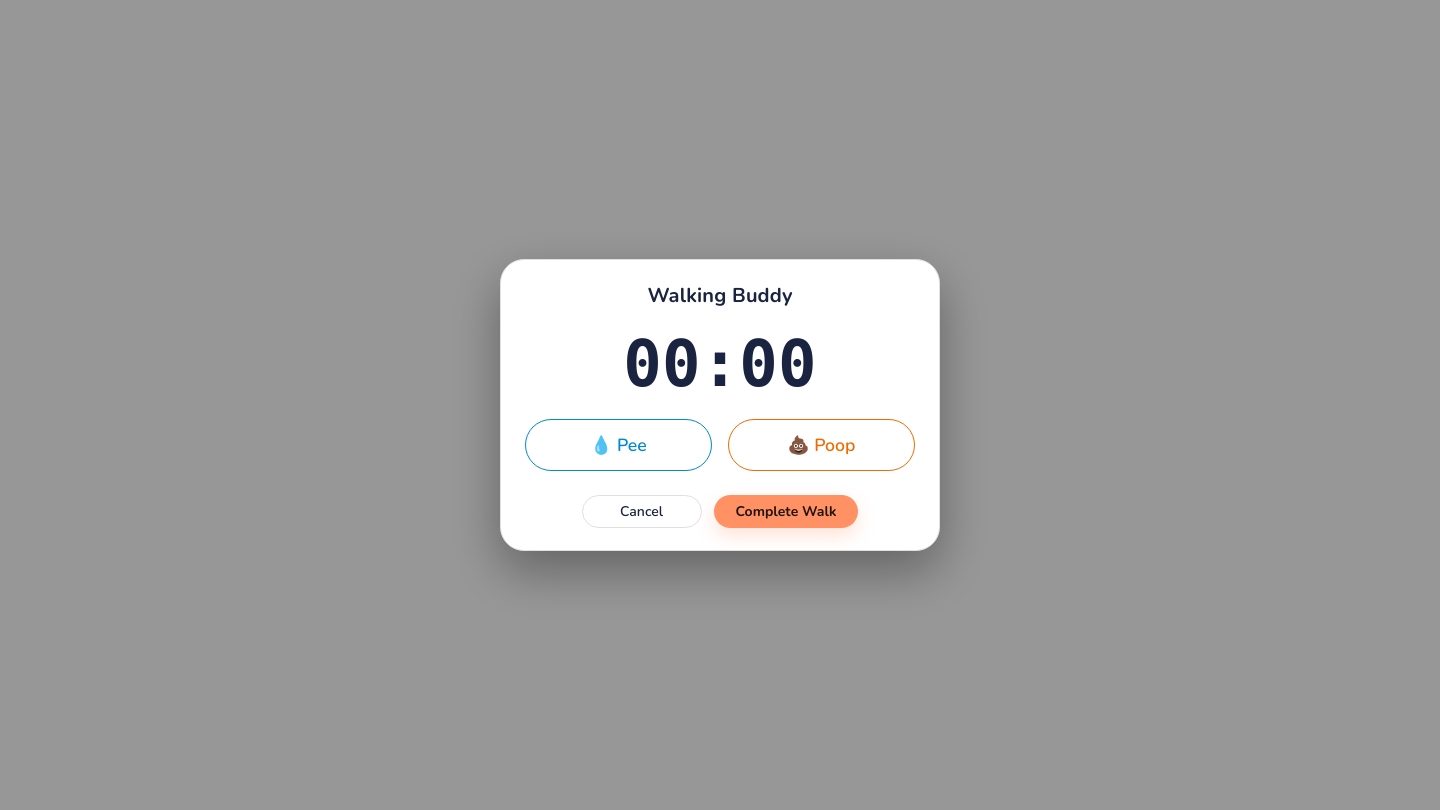
Test: WalkTimerModal › Bathroom events › adds pee event when pee button is clicked
This screenshot has width=1440, height=810.
Click the button "💧 Pee". click: (618, 445)
box: [525,419,712,471]
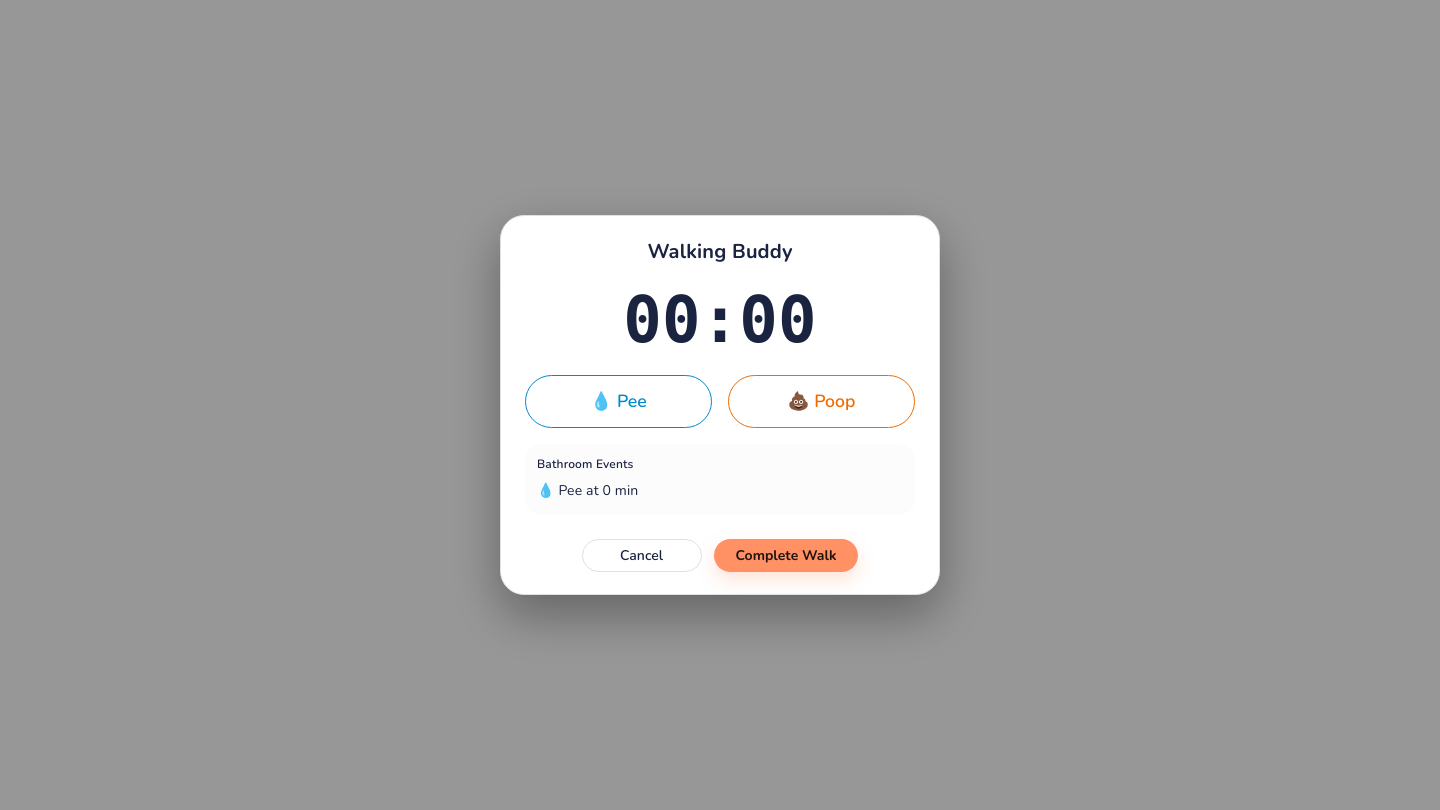
Check: the text "Bathroom Events" is shown, box [537,456,634,472]
Check: the text "💧 Pee at 0 min" is shown, box [537,481,638,500]
